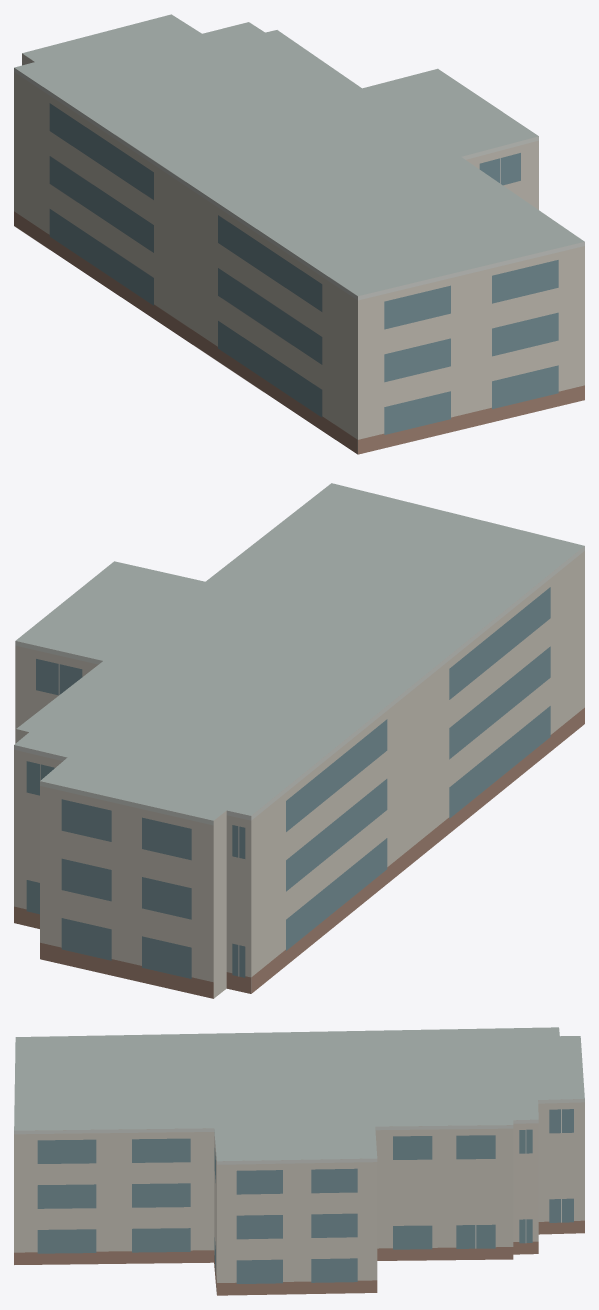
File: survey-upis-32628873.glb
The picture shows the model from 3 angles, top to bottom: view 1: azimuth 30°, elevation 25°; view 2: azimuth 150°, elevation 25°; view 3: azimuth 270°, elevation 25°; orthographic projection. The views are drawn at different scales.
Parts seen in each view (by area): view 1: survey-upis-32628873.tmp; view 2: survey-upis-32628873.tmp; view 3: survey-upis-32628873.tmp.
Part boxes in pixels (x1=…): survey-upis-32628873.tmp: x1=14, y1=14, x2=584, y2=454; survey-upis-32628873.tmp: x1=14, y1=483, x2=584, y2=998; survey-upis-32628873.tmp: x1=14, y1=1027, x2=584, y2=1295.
Size of the model in its own units: 19.57 by 9.15 by 35.24.
